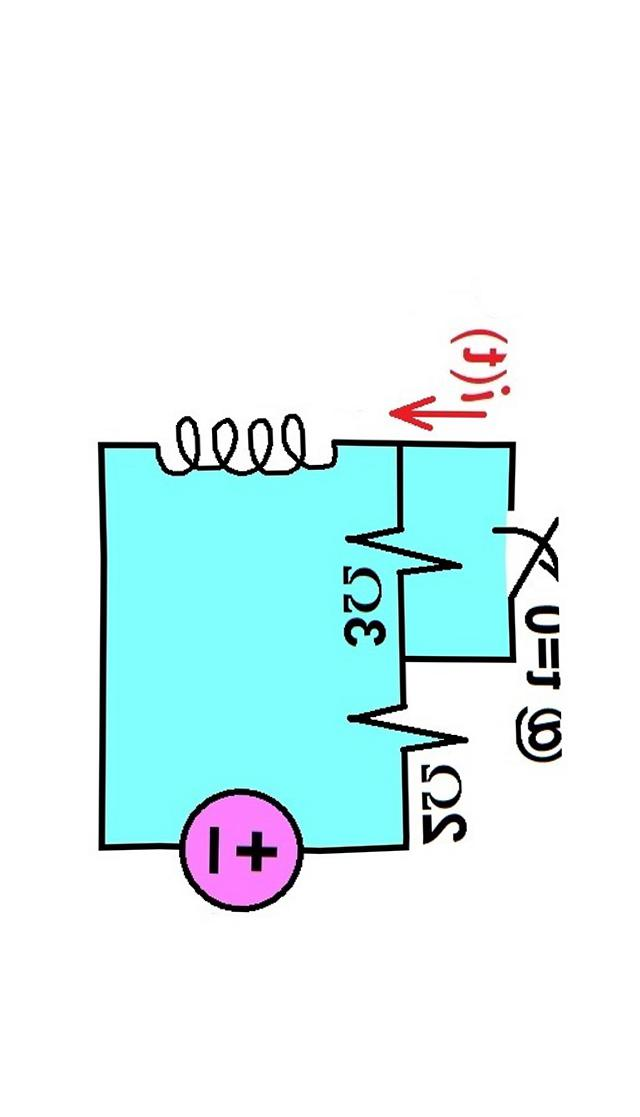Battery: (129, 762, 343, 928)
